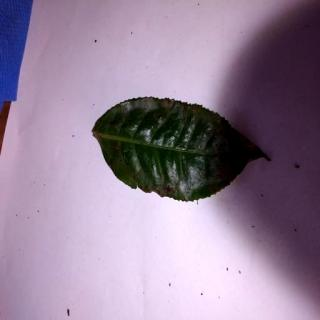Bird Eye Spot: (95, 99, 273, 201)
